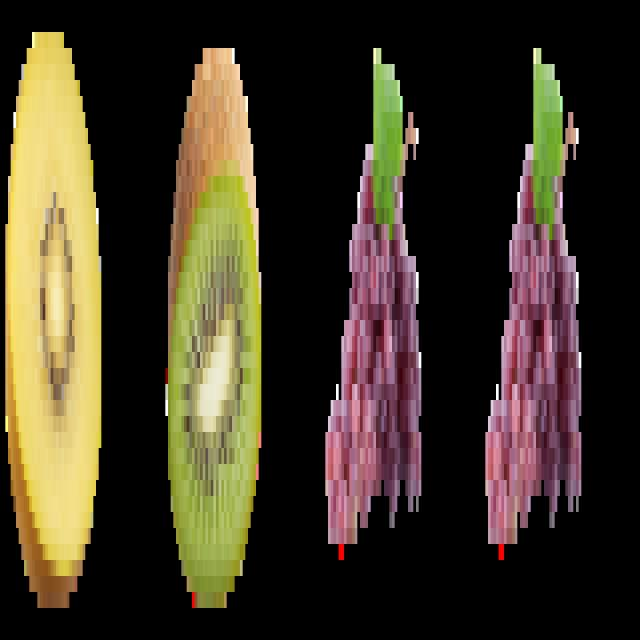grape: (479, 19, 592, 569), (322, 26, 429, 602)
kiwifruit: (3, 10, 106, 628), (164, 13, 266, 629)
